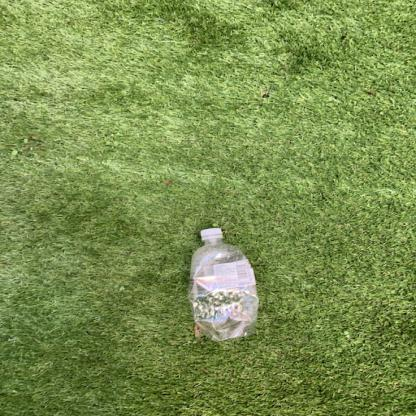trash: (189, 228, 261, 341)
